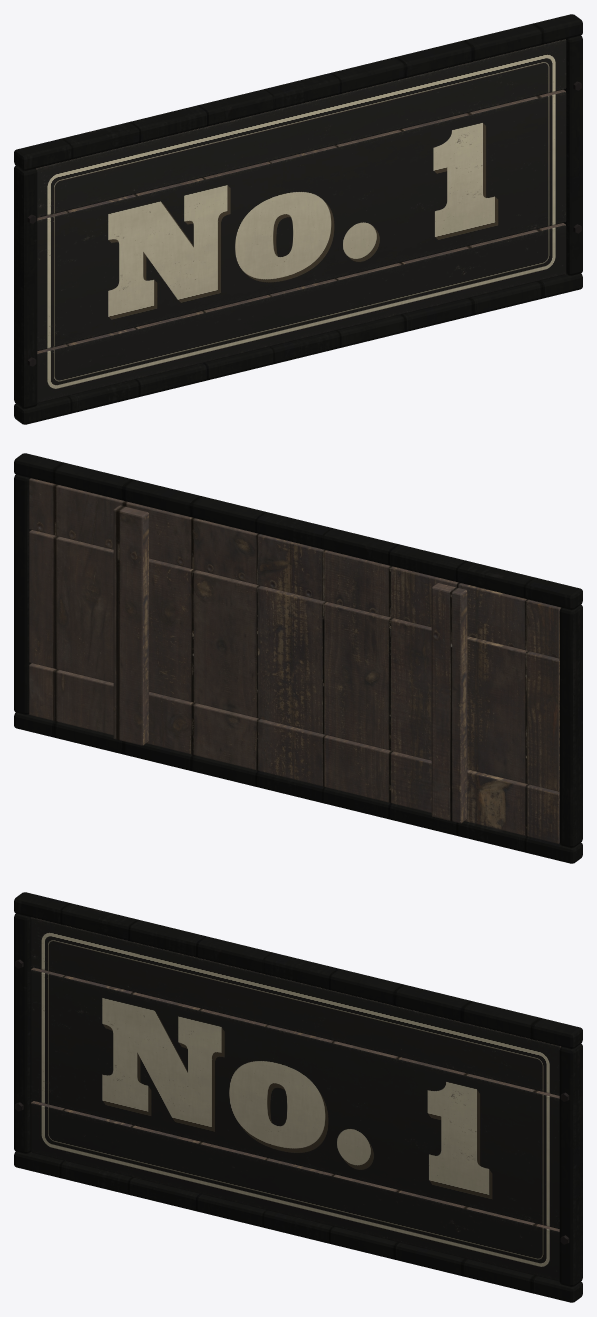
File: gate-board-no-1.glb
3 renders of one model, top to bottom at view 1: azimuth 30°, elevation 25°; view 2: azimuth 150°, elevation 25°; view 3: azimuth 330°, elevation 25°, orthographic.
Parts seen in each view (by area): view 1: gate-board-no-1-body; view 2: gate-board-no-1-body; view 3: gate-board-no-1-body.
Part boxes in pixels (bbox=[...]): gate-board-no-1-body: bbox=[14, 14, 582, 424]; gate-board-no-1-body: bbox=[14, 453, 582, 863]; gate-board-no-1-body: bbox=[14, 892, 582, 1302].
Size of the model in its own units: 1.48 by 0.68 by 0.0857.
Materials: 4 (4 with a texture image).
